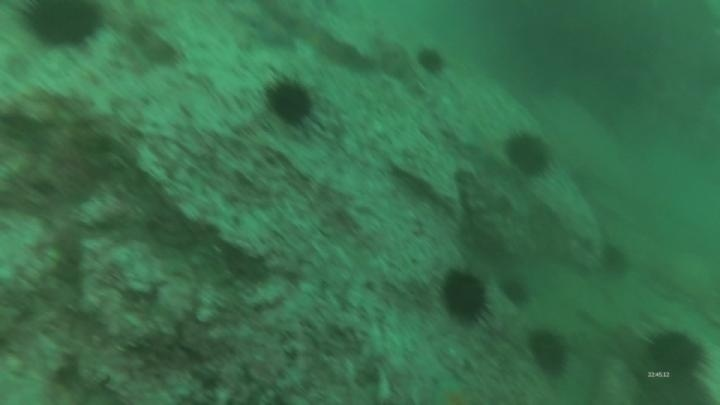echinus: (17, 1, 106, 52), (642, 326, 709, 380), (438, 267, 493, 327), (263, 74, 318, 129), (503, 130, 554, 178), (526, 327, 572, 378), (598, 241, 632, 278), (498, 275, 533, 309), (415, 45, 448, 77)
starfish: (460, 121, 511, 174), (426, 373, 490, 404), (248, 15, 298, 50)
